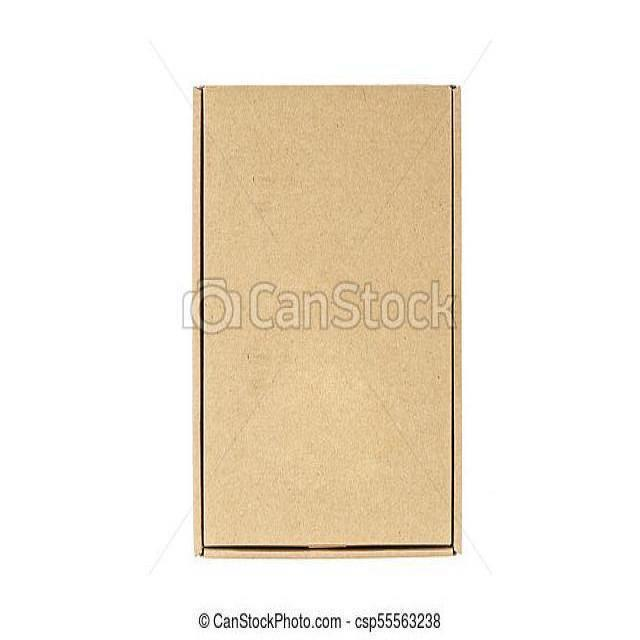box: (193, 81, 462, 559)
